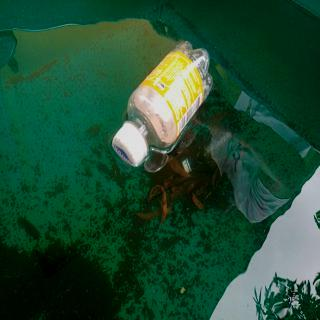bottle: (110, 40, 213, 168)
